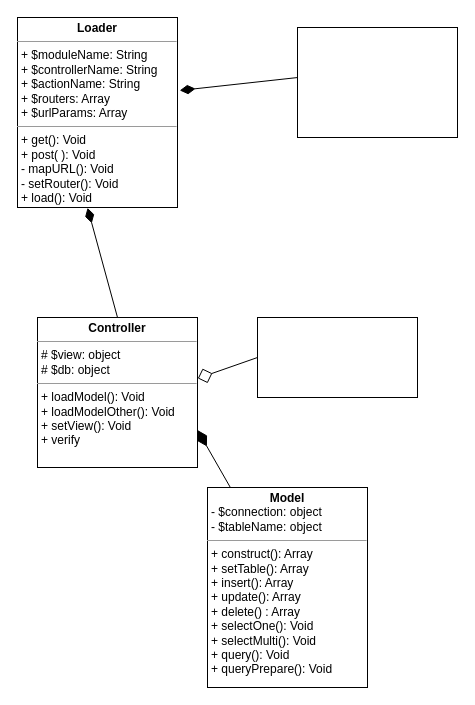
The diagram is 475 pixels wide and 705 high, and some of its shapes have lost their labels. The shapes that lost their labels are listed below. From the top down, each one's centre as x and y in pixels, then its label:
(377,82): Router + $routers: Array + get(): Void + post(): Void + any(): Void
(337,357): View + moduleName + render(): Void
